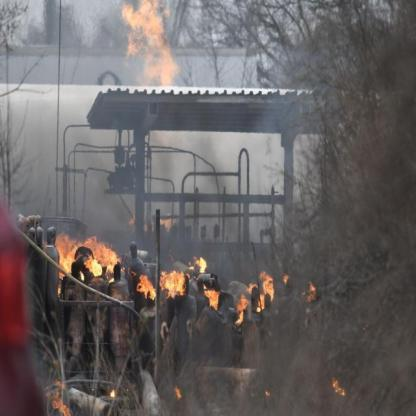Fire: (53, 231, 277, 320), (118, 2, 182, 87), (42, 376, 74, 416)
Smoke: (0, 105, 310, 221)
